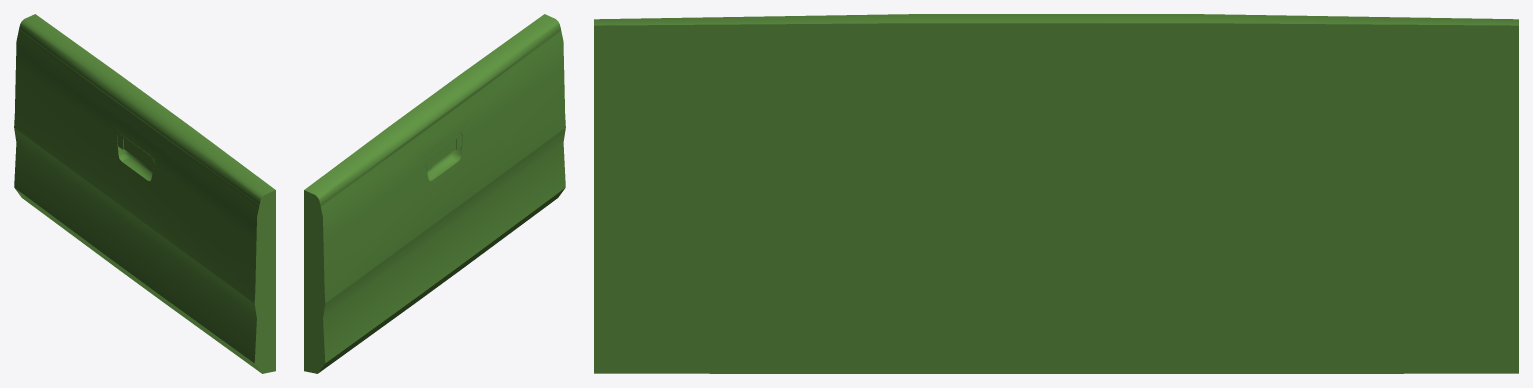
File: trunk_door_2.fbx
3 views of the same model, side by side, from view 1: azimuth 30°, elevation 25°; view 2: azimuth 150°, elevation 25°; view 3: azimuth 270°, elevation 25° (orthographic). The views are drawn at different scales.
Visible parts, largest first — view 1: PTN_4X4_GB_14_001.007; view 2: PTN_4X4_GB_14_001.007; view 3: PTN_4X4_GB_14_001.007.
Part boxes in pixels (x1=…): PTN_4X4_GB_14_001.007: x1=14, y1=14, x2=275, y2=373; PTN_4X4_GB_14_001.007: x1=304, y1=14, x2=565, y2=373; PTN_4X4_GB_14_001.007: x1=594, y1=14, x2=1518, y2=373.
Size of the model in its own units: 7.32 by 58.02 by 139.
